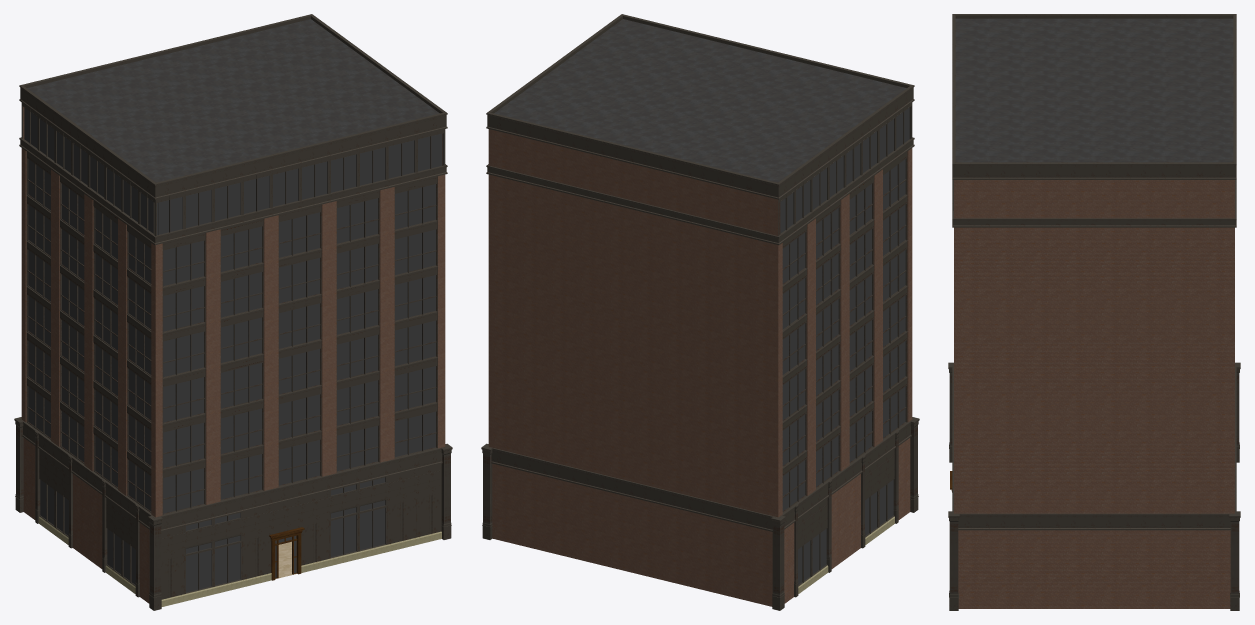
Rendered from building.glb.
3 renders of one model, left to right at view 1: azimuth 30°, elevation 25°; view 2: azimuth 150°, elevation 25°; view 3: azimuth 270°, elevation 25°, orthographic. The views are drawn at different scales.
Parts seen in each view (by area): view 1: Building_Large_2; view 2: Building_Large_2; view 3: Building_Large_2.
Part boxes in pixels (x1,y1,x2,y2): Building_Large_2: (14,14,452,610); Building_Large_2: (481,14,919,610); Building_Large_2: (948,14,1240,610).
Size of what is drawn, in the model's own units: 20.64 by 28 by 16.64.
Materials: 12 (11 with a texture image).
